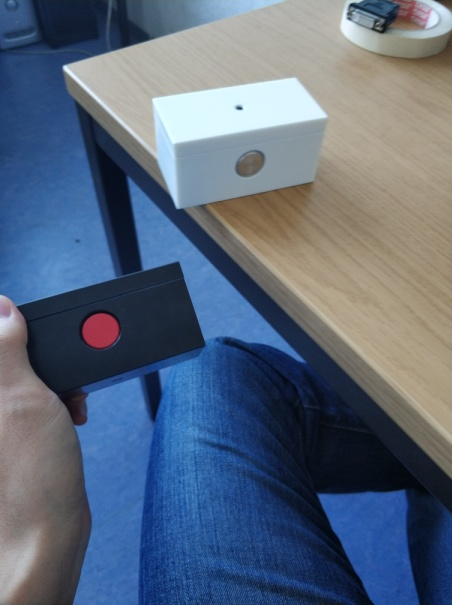black+black+red: (11, 257, 210, 397)
white+white+silver: (148, 74, 330, 211)
